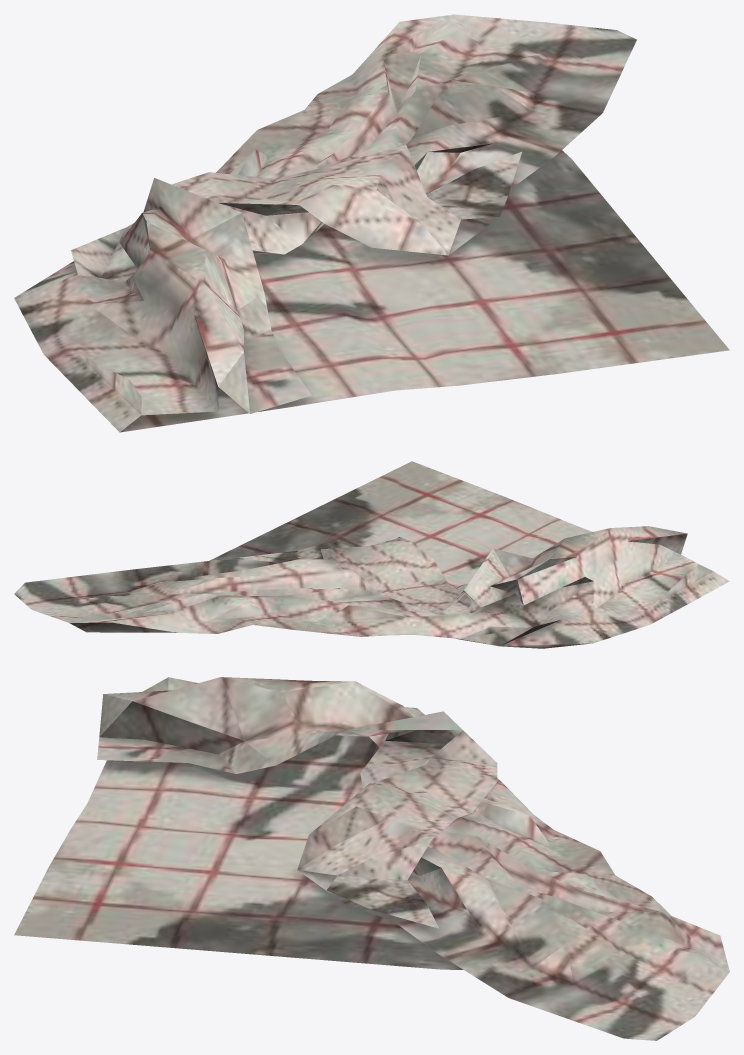
The model's file is rag_tablecloth_1_lod1_web.glb.
3 views of the same model, one above another, from view 1: azimuth 30°, elevation 25°; view 2: azimuth 150°, elevation 25°; view 3: azimuth 270°, elevation 25° (orthographic). The views are drawn at different scales.
Visible parts, largest first — view 1: rag_tablecloth_1_Cloth; view 2: rag_tablecloth_1_Cloth; view 3: rag_tablecloth_1_Cloth.
Part boxes in pixels (box(x1,y1,x2,y2)): rag_tablecloth_1_Cloth: box(14, 14, 729, 432); rag_tablecloth_1_Cloth: box(14, 461, 729, 648); rag_tablecloth_1_Cloth: box(14, 677, 729, 1040).
Size of the model in its own units: 1.06 by 0.1143 by 0.9238.
1 material, 1 textured.
